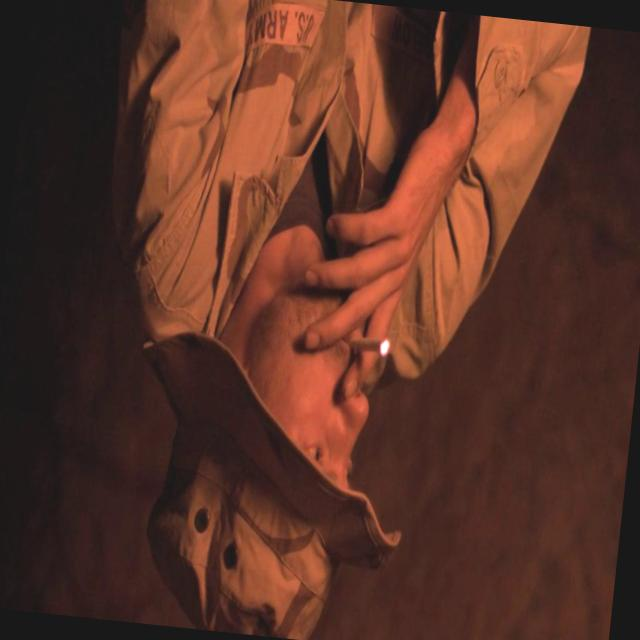cigarette: (336, 306, 397, 390)
